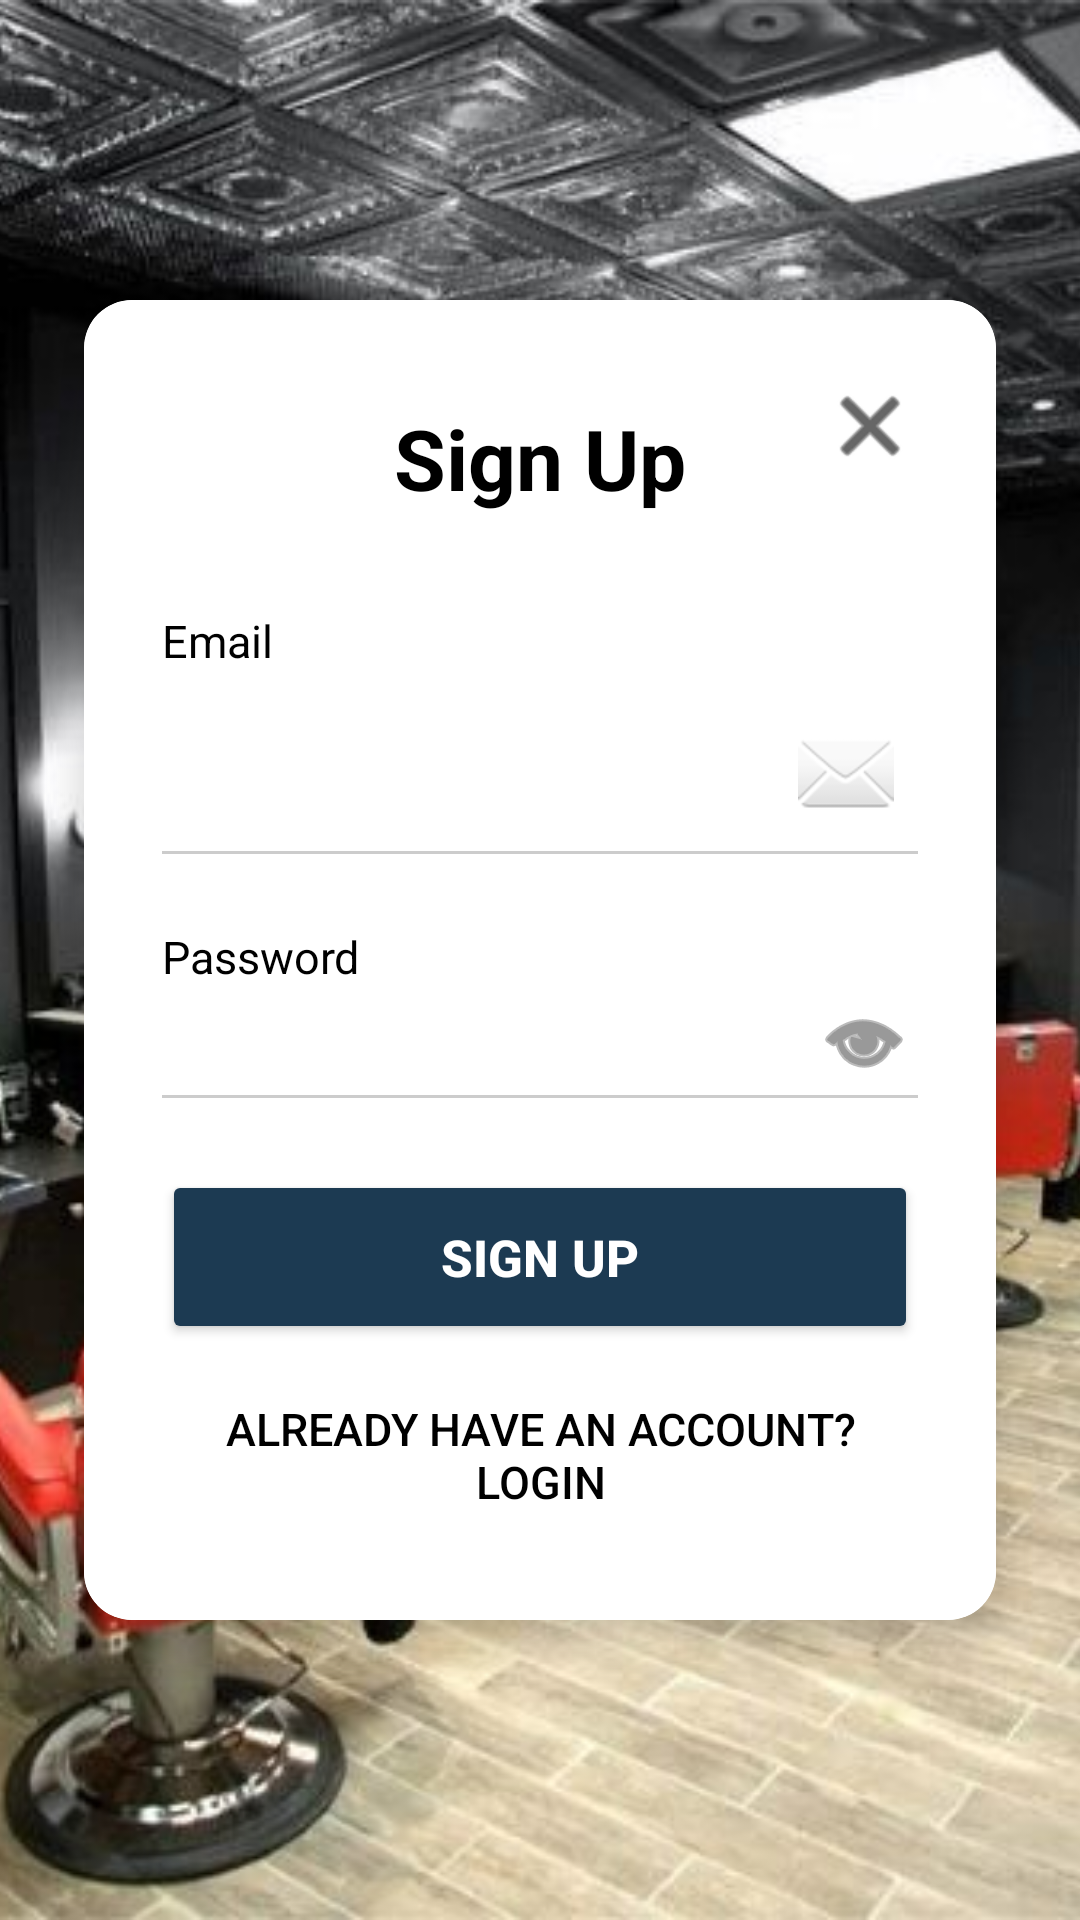

Screen size 1080px x 1920px. Icon name, then its box in pixels as (x1, y1, x2, y2):
Close: (840, 396, 900, 456)
Toggle password visibility: (825, 1019, 903, 1068)
